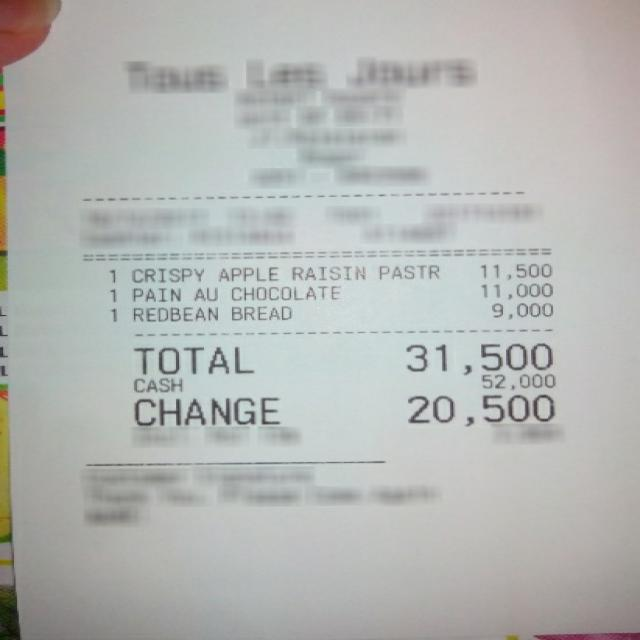text: (405, 392, 556, 426), (403, 341, 553, 374), (132, 396, 274, 426), (131, 346, 252, 374), (228, 283, 336, 298), (129, 264, 201, 282), (480, 372, 552, 390), (130, 305, 213, 320), (478, 281, 548, 298), (478, 262, 548, 278), (290, 264, 361, 278), (491, 300, 548, 317), (215, 264, 274, 280), (377, 262, 436, 278), (231, 303, 288, 319), (129, 286, 178, 301), (132, 376, 184, 390), (190, 285, 213, 299), (104, 268, 117, 282), (107, 286, 117, 300), (109, 307, 115, 320)
